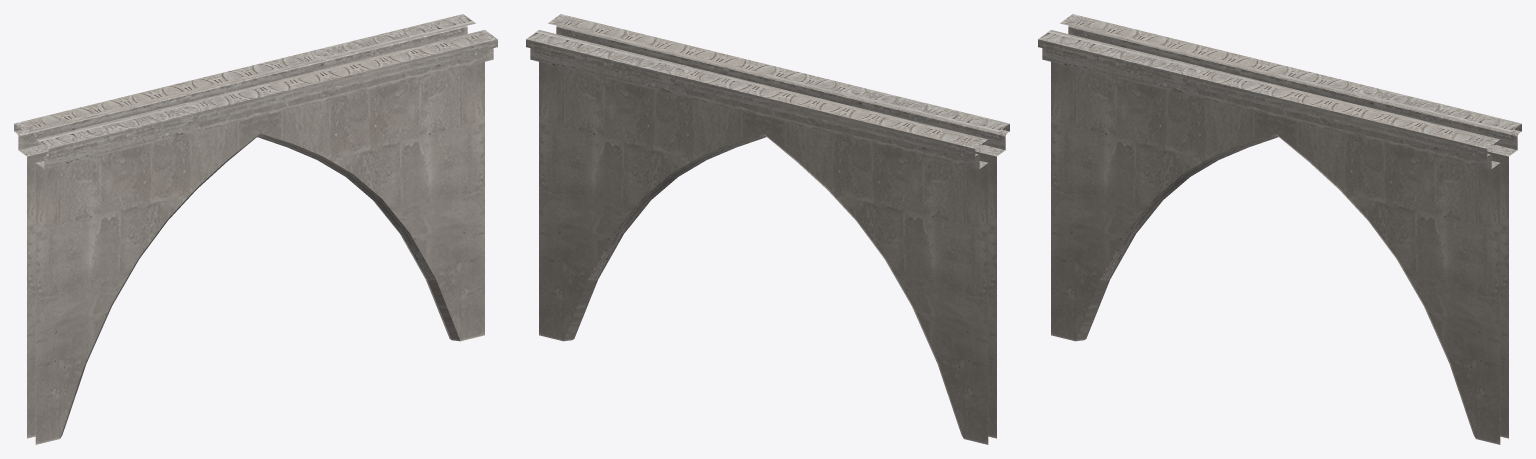
The model's file is arch_01.fbx.
The picture shows the model from 3 angles, left to right: view 1: azimuth 30°, elevation 25°; view 2: azimuth 150°, elevation 25°; view 3: azimuth 330°, elevation 25°; orthographic projection.
Visible parts, largest first — view 1: Line002, Rectangle006; view 2: Line002, Rectangle006; view 3: Line002, Rectangle006.
Boxes of the visible parts, box(x1,y1,x2,y2) form: Line002: box(27, 62, 484, 444); Rectangle006: box(14, 14, 497, 168); Line002: box(539, 62, 996, 444); Rectangle006: box(526, 14, 1009, 168); Line002: box(1051, 62, 1508, 444); Rectangle006: box(1038, 14, 1521, 168).
Bounding box in the file's own units: 120 × 16 × 78.
1 material, 1 textured.
